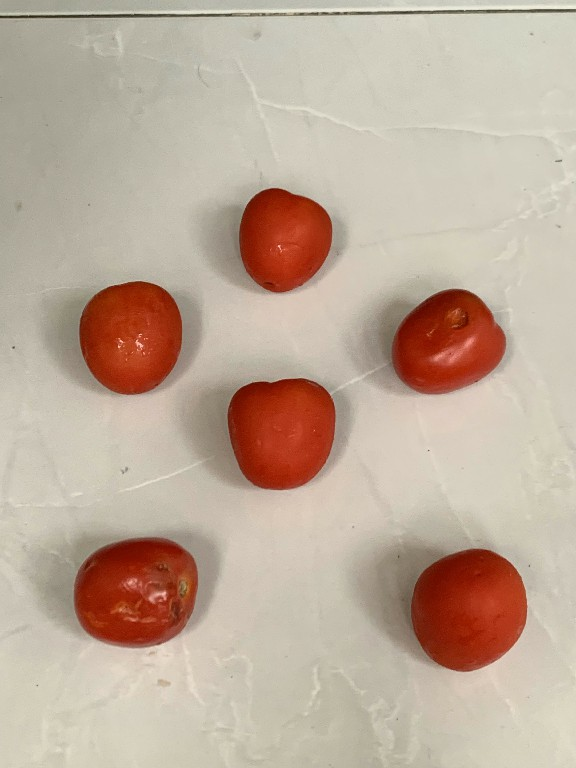NG: (65, 531, 201, 657), (384, 280, 512, 404)
OK: (402, 541, 530, 678), (220, 373, 340, 500), (75, 273, 184, 400), (231, 179, 332, 300)
